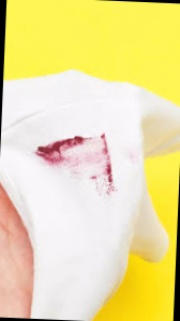lipstick: (80, 128, 119, 198), (36, 130, 92, 171)
